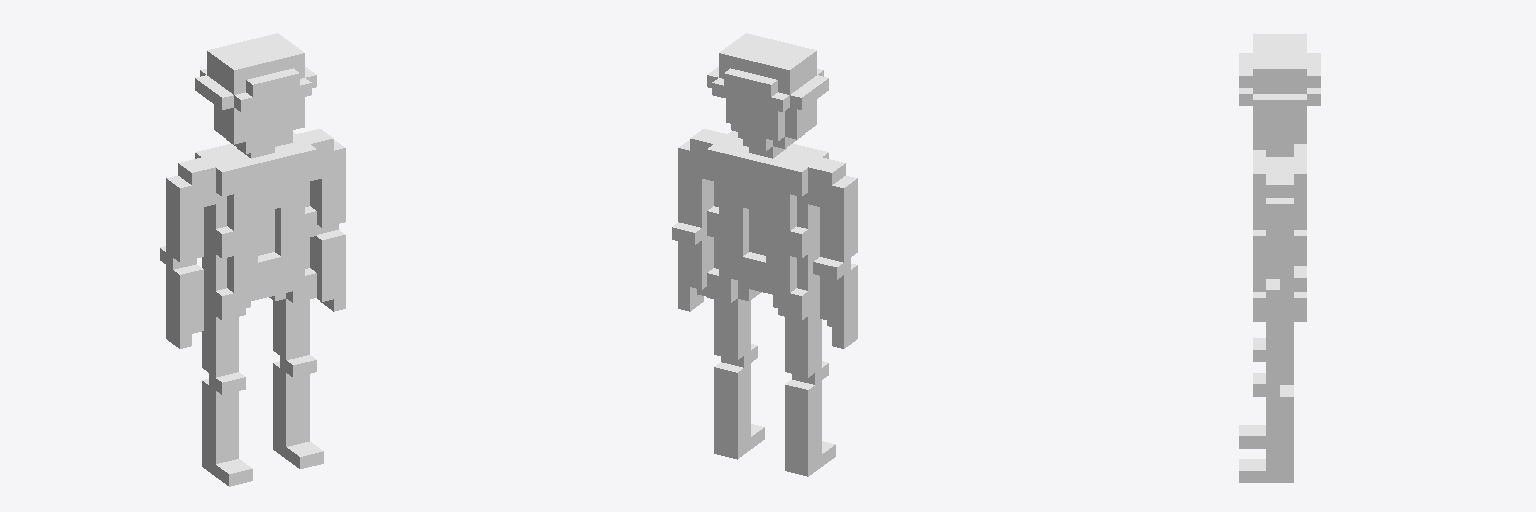
The model's file is Generic.obj.
3 views of the same model, side by side, from view 1: azimuth 30°, elevation 25°; view 2: azimuth 150°, elevation 25°; view 3: azimuth 270°, elevation 25° (orthographic).
Parts seen in each view (by area): view 1: object 1; view 2: object 1; view 3: object 1.
Boxes of the visible parts, box(x1,y1,x2,y2) form: object 1: box(160, 33, 345, 486); object 1: box(672, 33, 857, 476); object 1: box(1239, 34, 1320, 482).
Bounding box in the file's own units: 1.4 × 3.3 × 0.6.